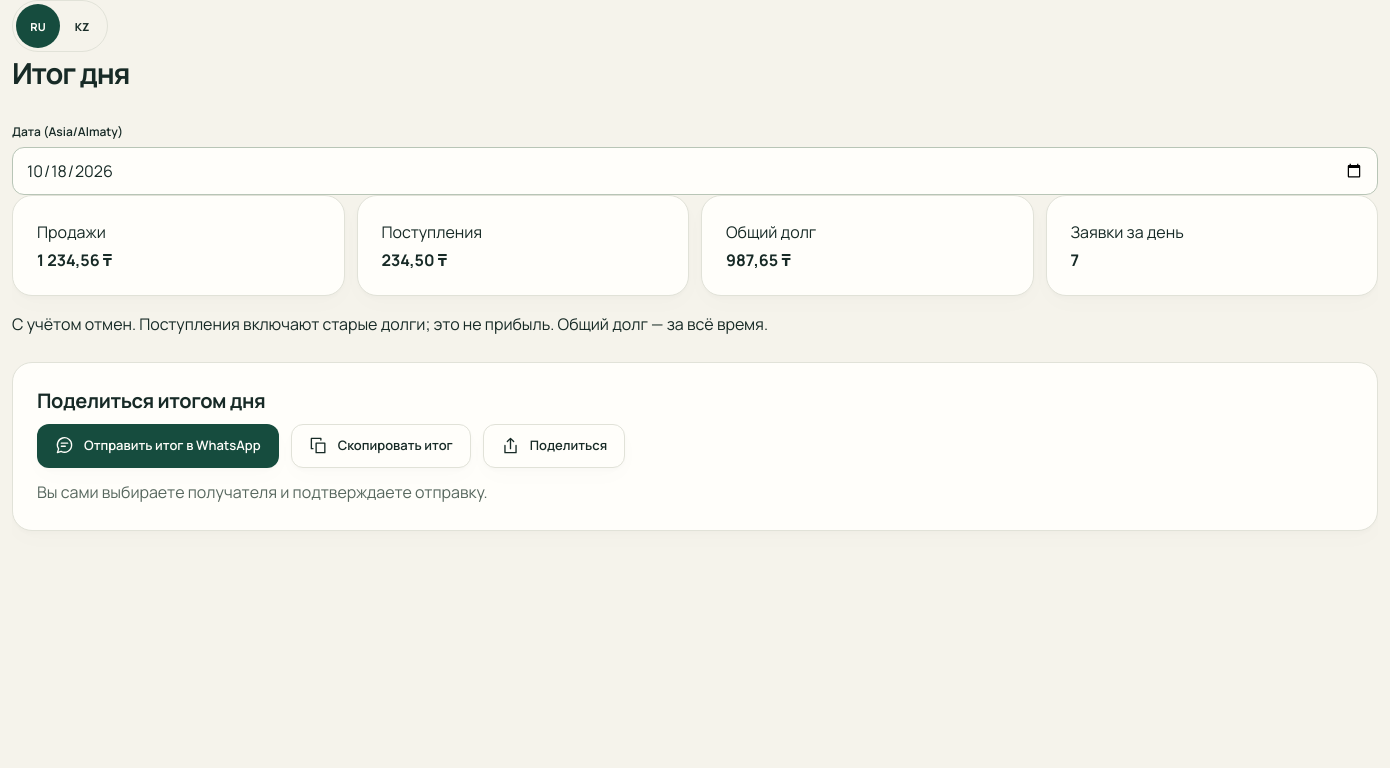
Test case: summary sharing states and isolation › shows a native failure and leaves WhatsApp and copy available
What coordinates should you click on to do the following:
click the button "Поделиться"
I would click on:
 (554, 446)
Its box is [483,424,625,468].
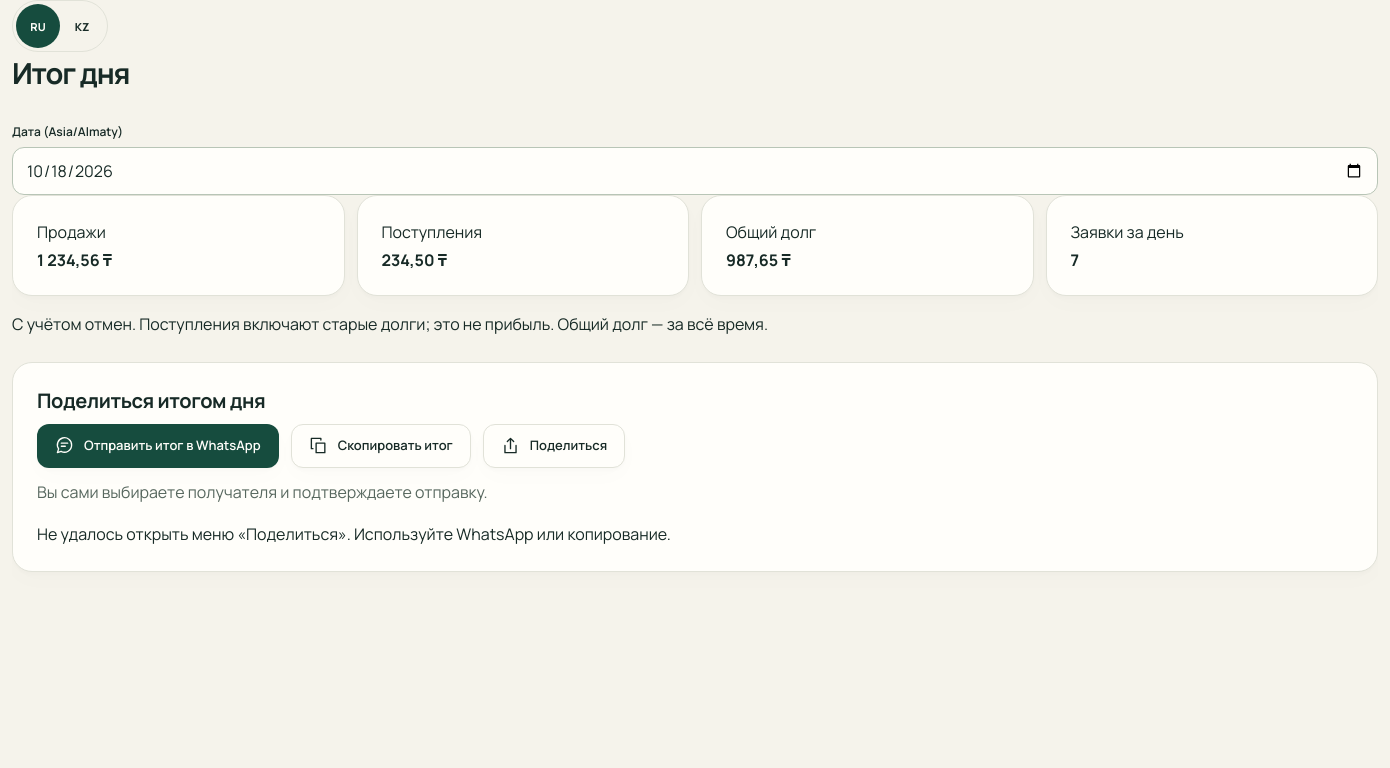
Check: the link "Отправить итог в WhatsApp" is shown, box [37,424,279,468]
Check: the message shows "Не удалось открыть меню", box [37,523,671,545]
